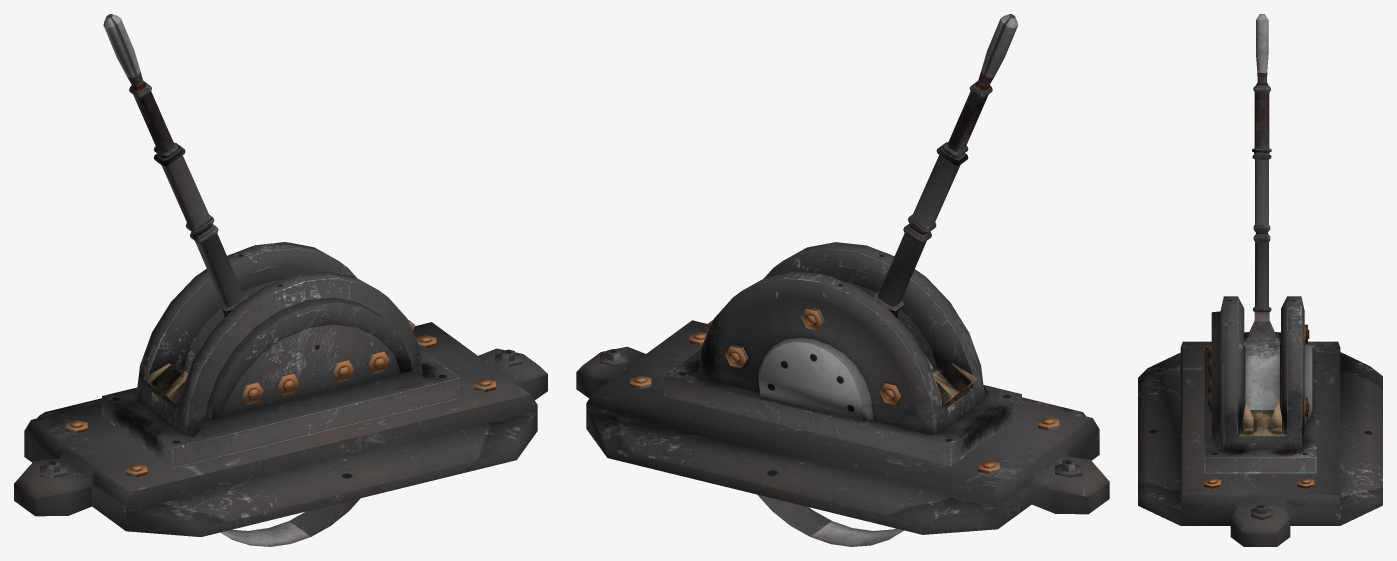
The model's file is Floor Lever 02 Animatable.fbx.
3 renders of one model, left to right at view 1: azimuth 30°, elevation 25°; view 2: azimuth 150°, elevation 25°; view 3: azimuth 270°, elevation 25°, orthographic. The views are drawn at different scales.
Parts seen in each view (by area): view 1: Base, Lever; view 2: Base, Lever; view 3: Base, Lever.
Boxes of the visible parts, box(x1,y1,x2,y2) form: Base: box(14, 242, 547, 536); Lever: box(103, 14, 360, 546); Base: box(576, 242, 1109, 534); Lever: box(757, 14, 1018, 546); Base: box(1138, 296, 1382, 546); Lever: box(1244, 14, 1280, 409).
Bounding box in the file's own units: 172 × 180 × 90.47.
